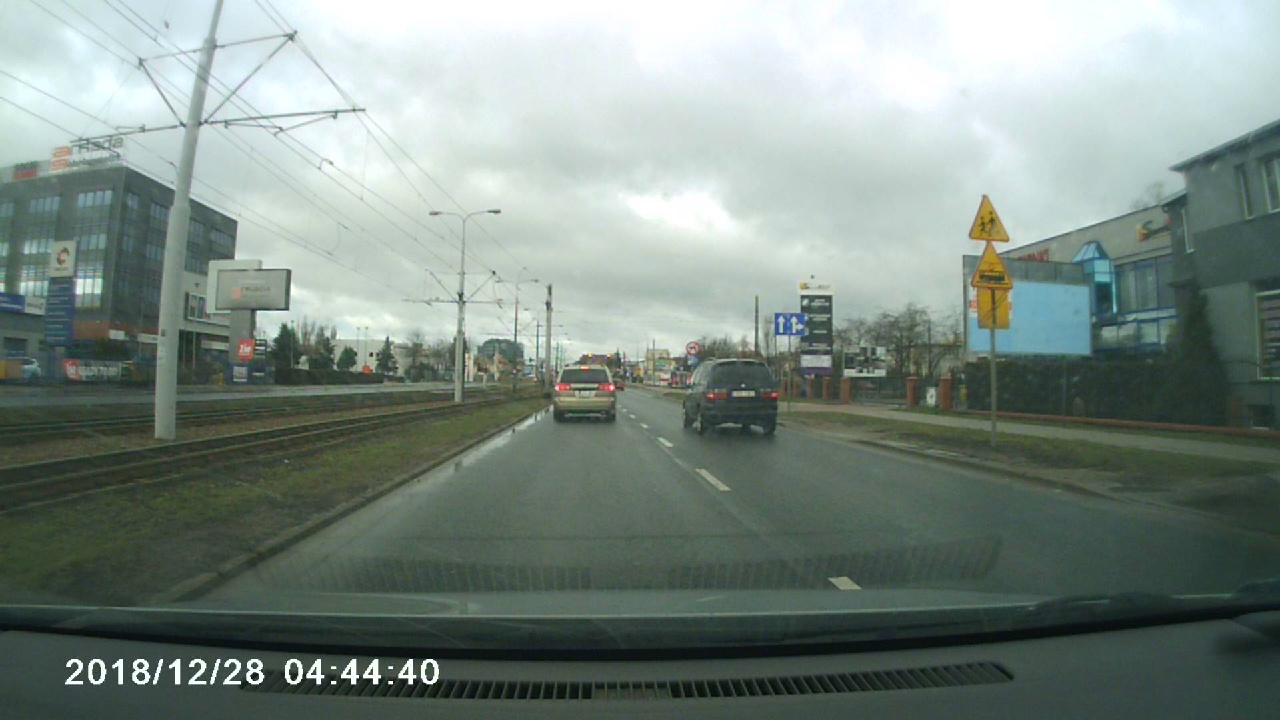A17: (965, 192, 1014, 244)
A21: (963, 242, 1016, 287)
